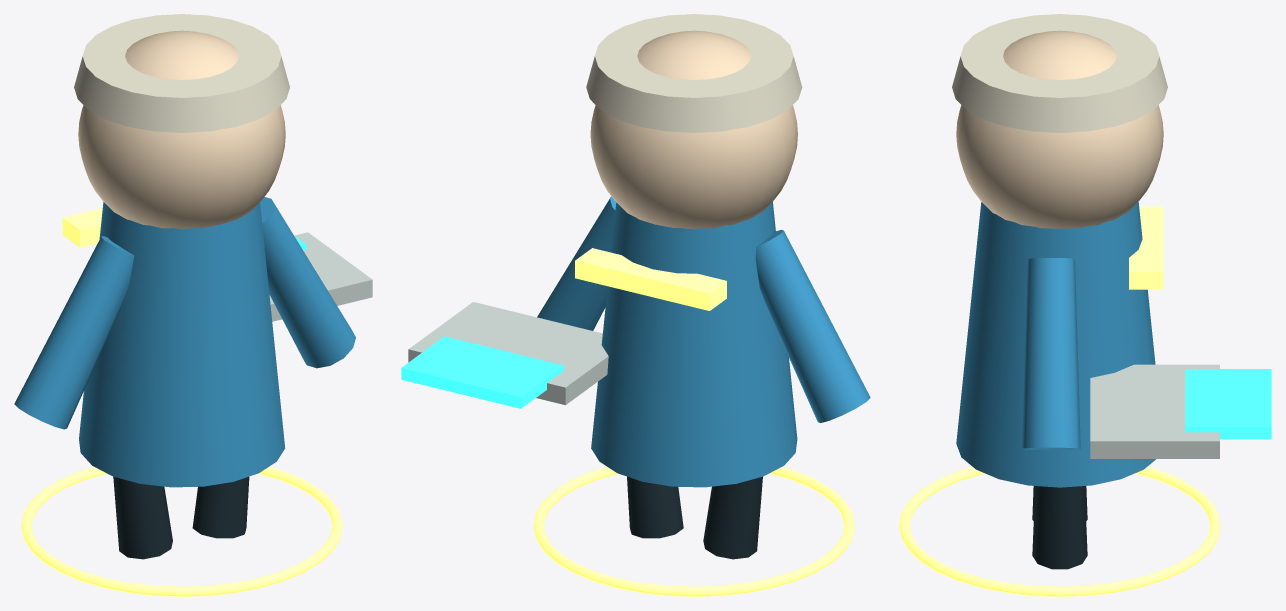
Rendered from operator-human.glb.
3 views of the same model, side by side, from view 1: azimuth 30°, elevation 25°; view 2: azimuth 150°, elevation 25°; view 3: azimuth 270°, elevation 25° (orthographic).
Visible parts, largest first — view 1: rj-human-operator-character-uniform-torso, rj-human-operator-character-head, rj-human-operator-character-helmet-brim, rj-human-operator-character-left-arm-working, rj-human-operator-character-right-arm-working, rj-human-operator-character-position-ring, rj-human-operator-character-left-leg, rj-human-operator-character-right-leg, rj-human-operator-character-tablet-body, rj-human-operator-character-safety-vest-light; view 2: rj-human-operator-character-uniform-torso, rj-human-operator-character-head, rj-human-operator-character-helmet-brim, rj-human-operator-character-left-arm-working, rj-human-operator-character-tablet-body, rj-human-operator-character-tablet-screen, rj-human-operator-character-position-ring, rj-human-operator-character-safety-vest-light, rj-human-operator-character-left-leg, rj-human-operator-character-right-arm-working, rj-human-operator-character-right-leg; view 3: rj-human-operator-character-uniform-torso, rj-human-operator-character-head, rj-human-operator-character-helmet-brim, rj-human-operator-character-right-arm-working, rj-human-operator-character-tablet-body, rj-human-operator-character-position-ring, rj-human-operator-character-tablet-screen, rj-human-operator-character-right-leg, rj-human-operator-character-safety-vest-light.
Part boxes in pixels (x1=…): rj-human-operator-character-uniform-torso: x1=79, y1=202, x2=285, y2=487; rj-human-operator-character-head: x1=78, y1=30, x2=285, y2=229; rj-human-operator-character-helmet-brim: x1=74, y1=14, x2=289, y2=132; rj-human-operator-character-left-arm-working: x1=14, y1=236, x2=134, y2=429; rj-human-operator-character-right-arm-working: x1=260, y1=197, x2=355, y2=368; rj-human-operator-character-position-ring: x1=21, y1=466, x2=342, y2=596; rj-human-operator-character-left-leg: x1=113, y1=476, x2=172, y2=559; rj-human-operator-character-right-leg: x1=192, y1=476, x2=249, y2=538; rj-human-operator-character-tablet-body: x1=269, y1=232, x2=372, y2=321; rj-human-operator-character-safety-vest-light: x1=62, y1=208, x2=102, y2=247; rj-human-operator-character-uniform-torso: x1=591, y1=202, x2=797, y2=487; rj-human-operator-character-head: x1=590, y1=30, x2=797, y2=229; rj-human-operator-character-helmet-brim: x1=586, y1=14, x2=802, y2=132; rj-human-operator-character-left-arm-working: x1=755, y1=229, x2=870, y2=422; rj-human-operator-character-tablet-body: x1=408, y1=302, x2=608, y2=405; rj-human-operator-character-tablet-screen: x1=401, y1=336, x2=564, y2=408; rj-human-operator-character-position-ring: x1=533, y1=466, x2=854, y2=596; rj-human-operator-character-safety-vest-light: x1=575, y1=248, x2=726, y2=310; rj-human-operator-character-left-leg: x1=703, y1=476, x2=762, y2=559; rj-human-operator-character-right-arm-working: x1=537, y1=196, x2=616, y2=330; rj-human-operator-character-right-leg: x1=627, y1=476, x2=683, y2=538; rj-human-operator-character-uniform-torso: x1=956, y1=202, x2=1155, y2=487; rj-human-operator-character-head: x1=956, y1=30, x2=1163, y2=228; rj-human-operator-character-helmet-brim: x1=952, y1=14, x2=1167, y2=132; rj-human-operator-character-right-arm-working: x1=1022, y1=258, x2=1080, y2=450; rj-human-operator-character-tablet-body: x1=1090, y1=364, x2=1219, y2=458; rj-human-operator-character-position-ring: x1=899, y1=466, x2=1220, y2=596; rj-human-operator-character-tablet-screen: x1=1185, y1=369, x2=1271, y2=439; rj-human-operator-character-right-leg: x1=1032, y1=486, x2=1087, y2=569; rj-human-operator-character-safety-vest-light: x1=1129, y1=206, x2=1163, y2=289.
Size of the model in its own units: 0.9983 by 1.28 by 0.862.
